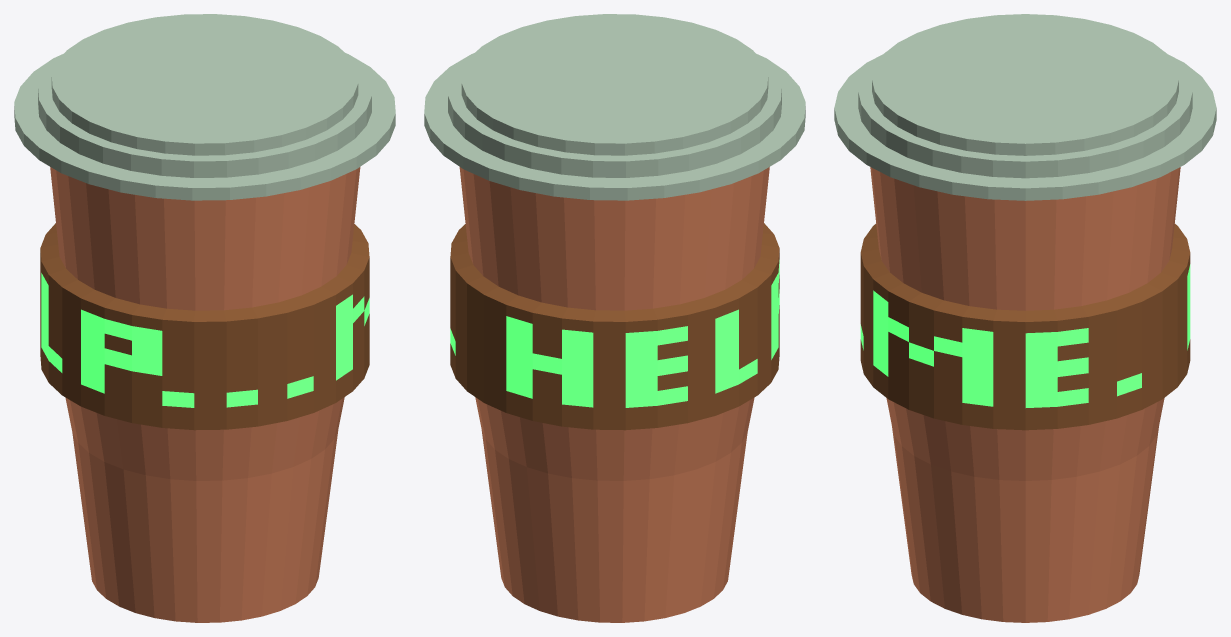
File: Kawusia.fbx
3 views of the same model, side by side, from view 1: azimuth 30°, elevation 25°; view 2: azimuth 150°, elevation 25°; view 3: azimuth 270°, elevation 25° (orthographic).
Visible parts, largest first — view 1: Circle; view 2: Circle; view 3: Circle.
Boxes of the visible parts, bbox=[...] form: Circle: bbox=[14, 14, 395, 622]; Circle: bbox=[424, 14, 805, 622]; Circle: bbox=[834, 14, 1216, 622].
Size of the model in its own units: 335 by 480 by 335.
